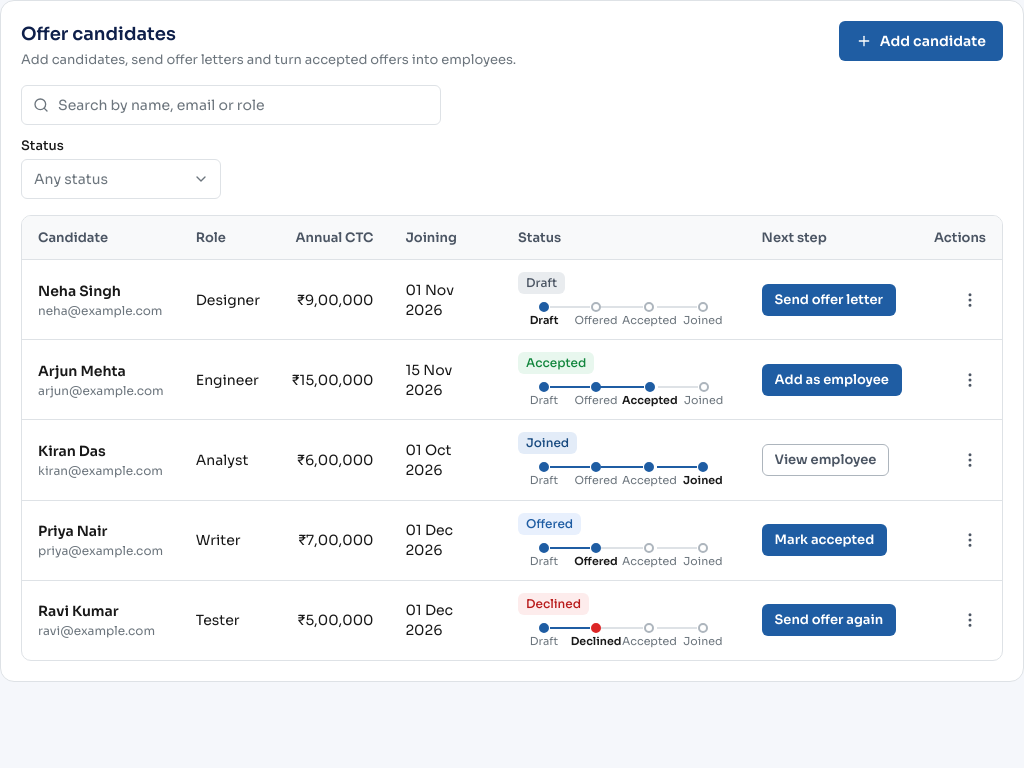
Test: status changes › shows a server note error on the note field and keeps the dialog open
This screenshot has width=1024, height=768.
Expected: the text "Priya Nair" is shown, [38,522,108,540]
Click the button with aria-label "Mark accepted for Priya Nair" at x=824, y=540, box [762,524,887,556]
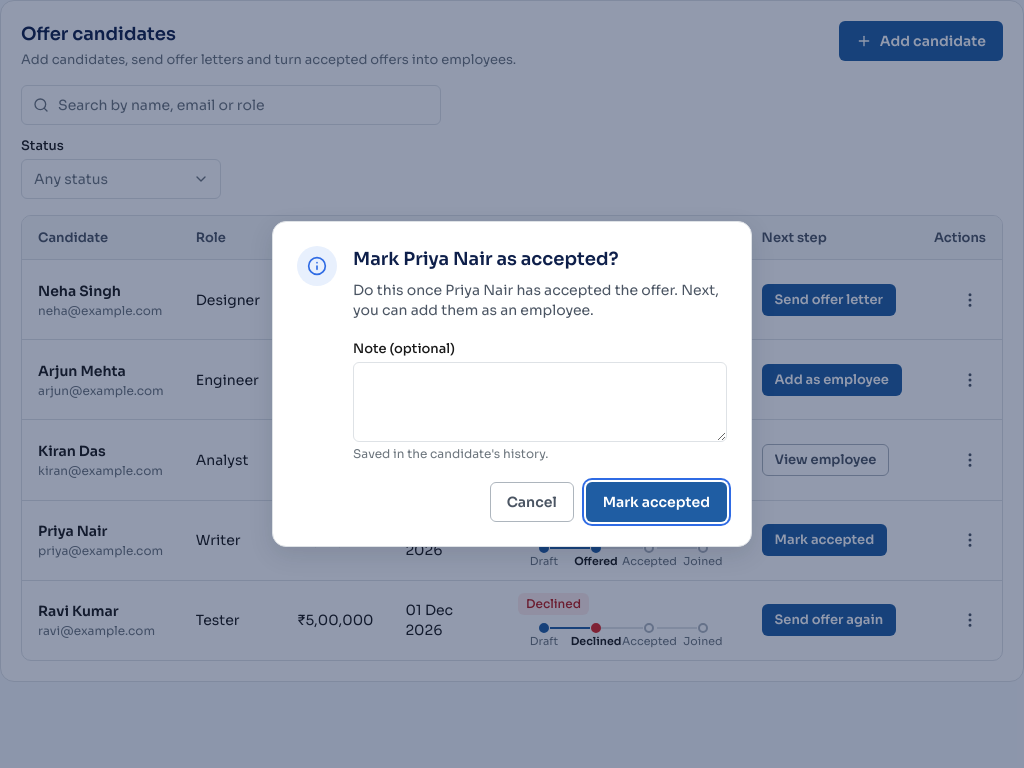
Type "fine on my side" into the text box labelled "Note (optional)" at x=540, y=402, box [353,362,727,442]
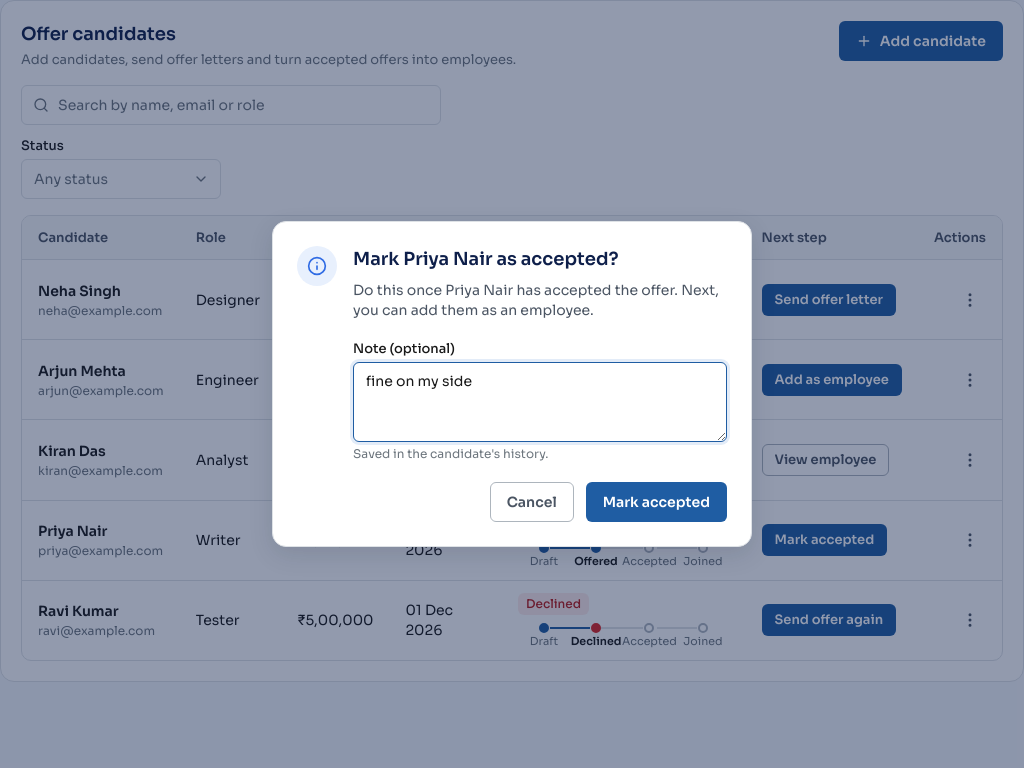
Click the button "Mark accepted" at x=656, y=502, box [586,482,727,522]
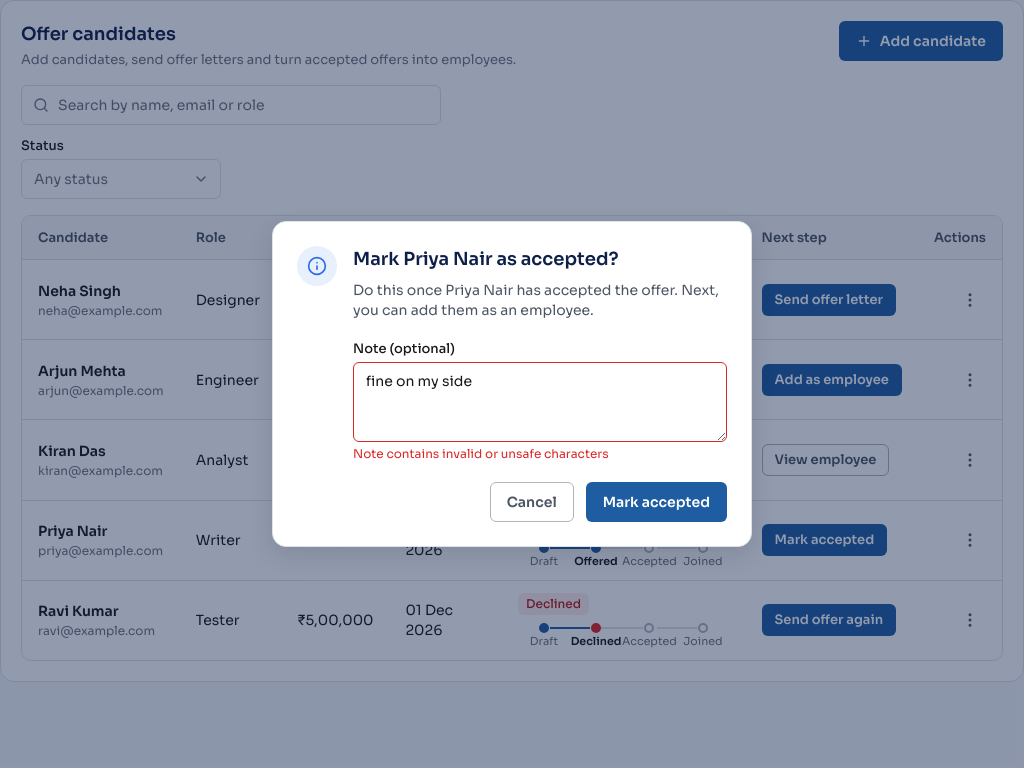
Now the text "Note contains invalid or unsafe characters" is shown once, box [353,446,609,461]
